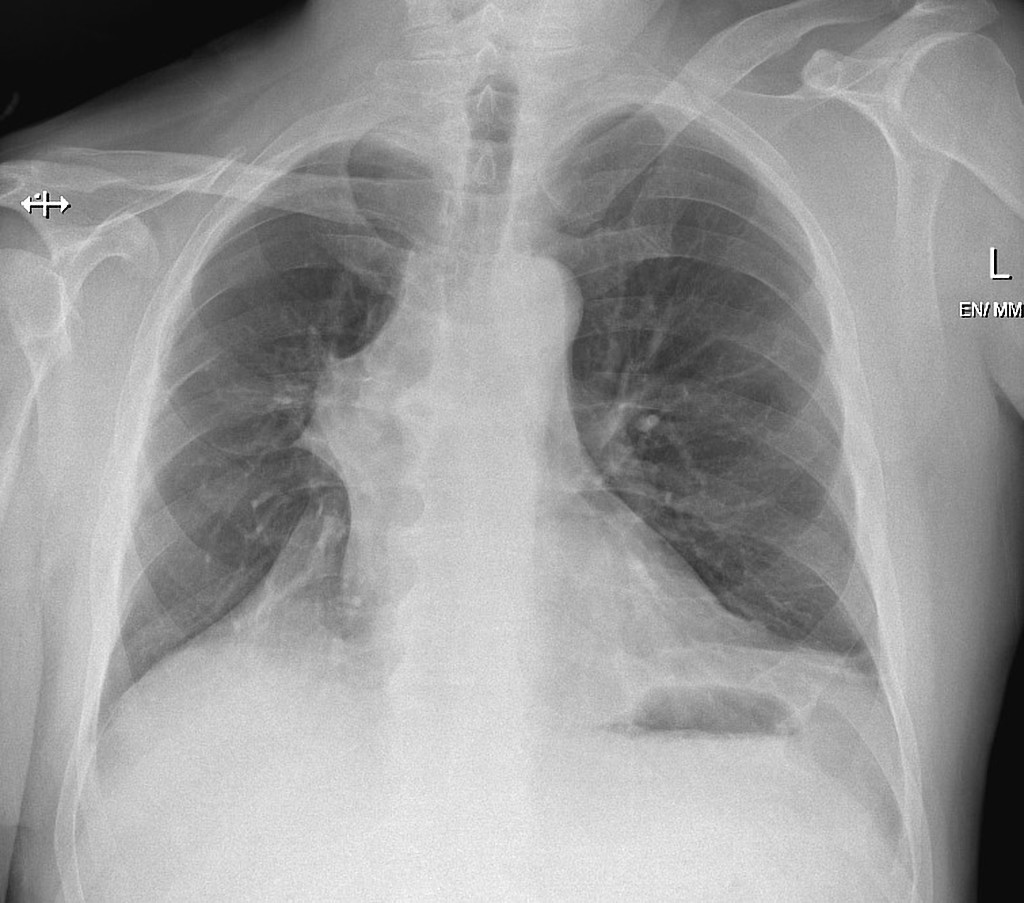cancer: (174, 183, 447, 727)
